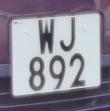2: (65, 52, 91, 91)
8: (23, 53, 49, 94)
9: (45, 53, 70, 92)
J: (57, 16, 80, 56)
W: (35, 15, 58, 57)
